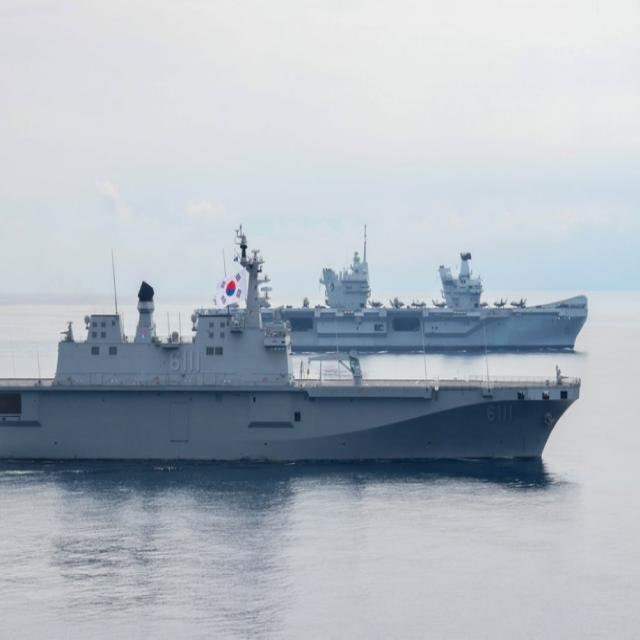navalvessels: (0, 241, 593, 478), (220, 193, 600, 362)
